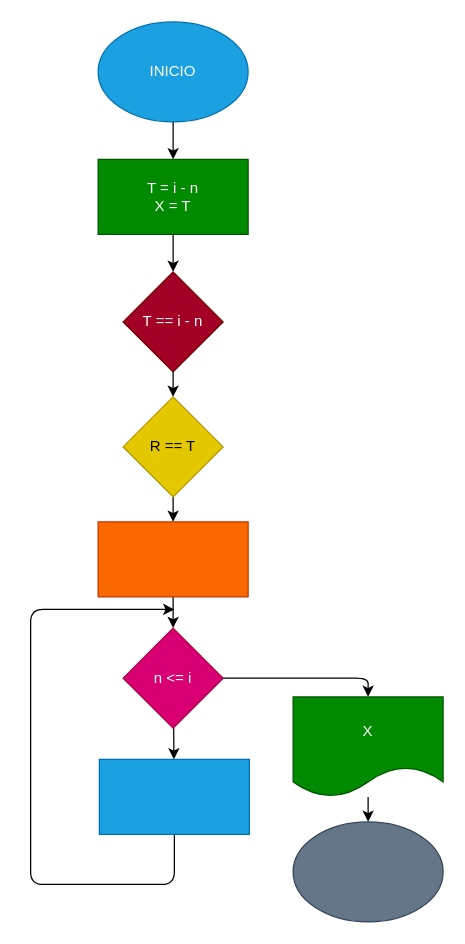
The diagram is 465 pixels wide and 944 high, and some of its shapes have lost their labels. Here are the shapes that lost their labels. From the top down, the centre of each, then its label:
the point at 172,559: X = R // 2 + 1
the point at 173,796: n % 2 = 0 n = n + 1
the point at 367,871: FIN
